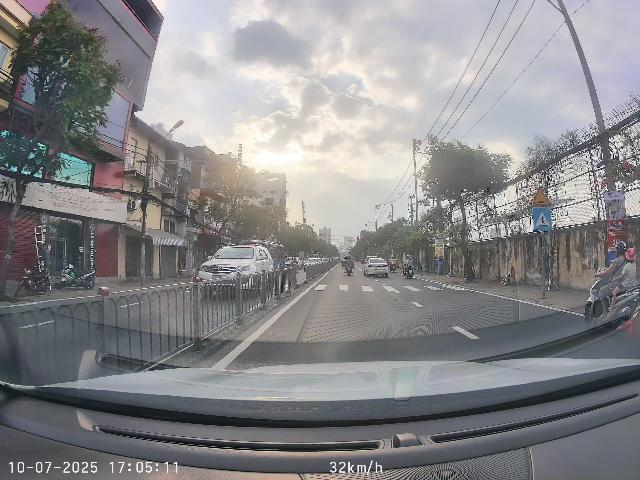221-duong-go-ghe: (533, 187, 550, 206)
423a-duong-nguoi-di-bo-sang-ngang-1: (532, 207, 552, 230)
